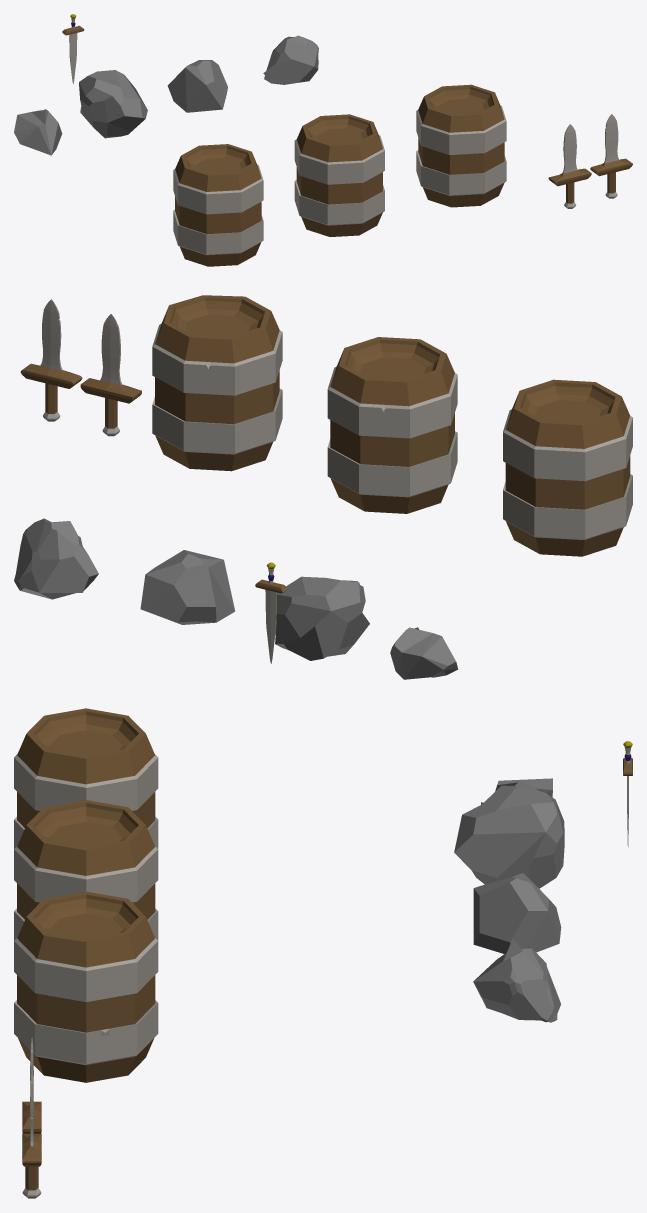
Rendered from Barrel.fbx.
3 renders of one model, top to bottom at view 1: azimuth 30°, elevation 25°; view 2: azimuth 150°, elevation 25°; view 3: azimuth 270°, elevation 25°, orthographic. The views are drawn at different scales.
Visible parts, largest first — view 1: Cylinder.001, Cylinder.002, Cylinder, Icosphere.001, Icosphere, Icosphere.002, Cube.004, Cube, Cube.002, Cube.001; view 2: Cylinder, Cylinder.002, Cylinder.001, Icosphere.001, Icosphere, Icosphere.002, Cube.004, Cube, Cube.002, Cube.001; view 3: Cylinder.002, Cylinder, Cylinder.001, Icosphere.001, Icosphere, Icosphere.002, Cube.002, Cube.
Part boxes in pixels (bbox=[...]): Cylinder.001: bbox=[173, 144, 263, 266]; Cylinder.002: bbox=[416, 84, 506, 207]; Cylinder: bbox=[294, 114, 384, 236]; Icosphere.001: bbox=[79, 70, 147, 138]; Icosphere: bbox=[167, 60, 227, 112]; Icosphere.002: bbox=[263, 35, 318, 84]; Cube.004: bbox=[14, 109, 62, 155]; Cube: bbox=[548, 124, 591, 208]; Cube.002: bbox=[590, 114, 632, 198]; Cube.001: bbox=[62, 14, 84, 84]; Cylinder: bbox=[327, 337, 457, 513]; Cylinder.002: bbox=[152, 295, 282, 471]; Cylinder.001: bbox=[503, 379, 632, 556]; Icosphere.001: bbox=[275, 576, 369, 660]; Icosphere: bbox=[140, 550, 235, 624]; Icosphere.002: bbox=[14, 518, 98, 599]; Cube.004: bbox=[390, 627, 458, 679]; Cube: bbox=[80, 314, 141, 436]; Cube.002: bbox=[20, 299, 82, 421]; Cube.001: bbox=[255, 562, 286, 663]; Cylinder.002: bbox=[14, 891, 158, 1082]; Cylinder: bbox=[14, 800, 158, 939]; Cylinder.001: bbox=[14, 708, 158, 848]; Icosphere.001: bbox=[454, 785, 564, 888]; Icosphere: bbox=[473, 872, 561, 953]; Icosphere.002: bbox=[473, 938, 560, 1022]; Cube.002: bbox=[22, 1068, 41, 1198]; Cube: bbox=[22, 1037, 41, 1133].
Bounding box in the file's own units: 1504 × 400 × 1142.
